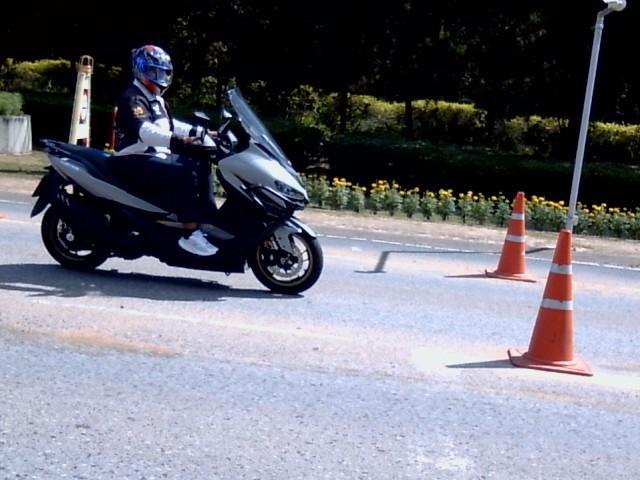helmet: (132, 44, 172, 95)
motor: (30, 89, 322, 293)
person: (115, 45, 216, 255)
